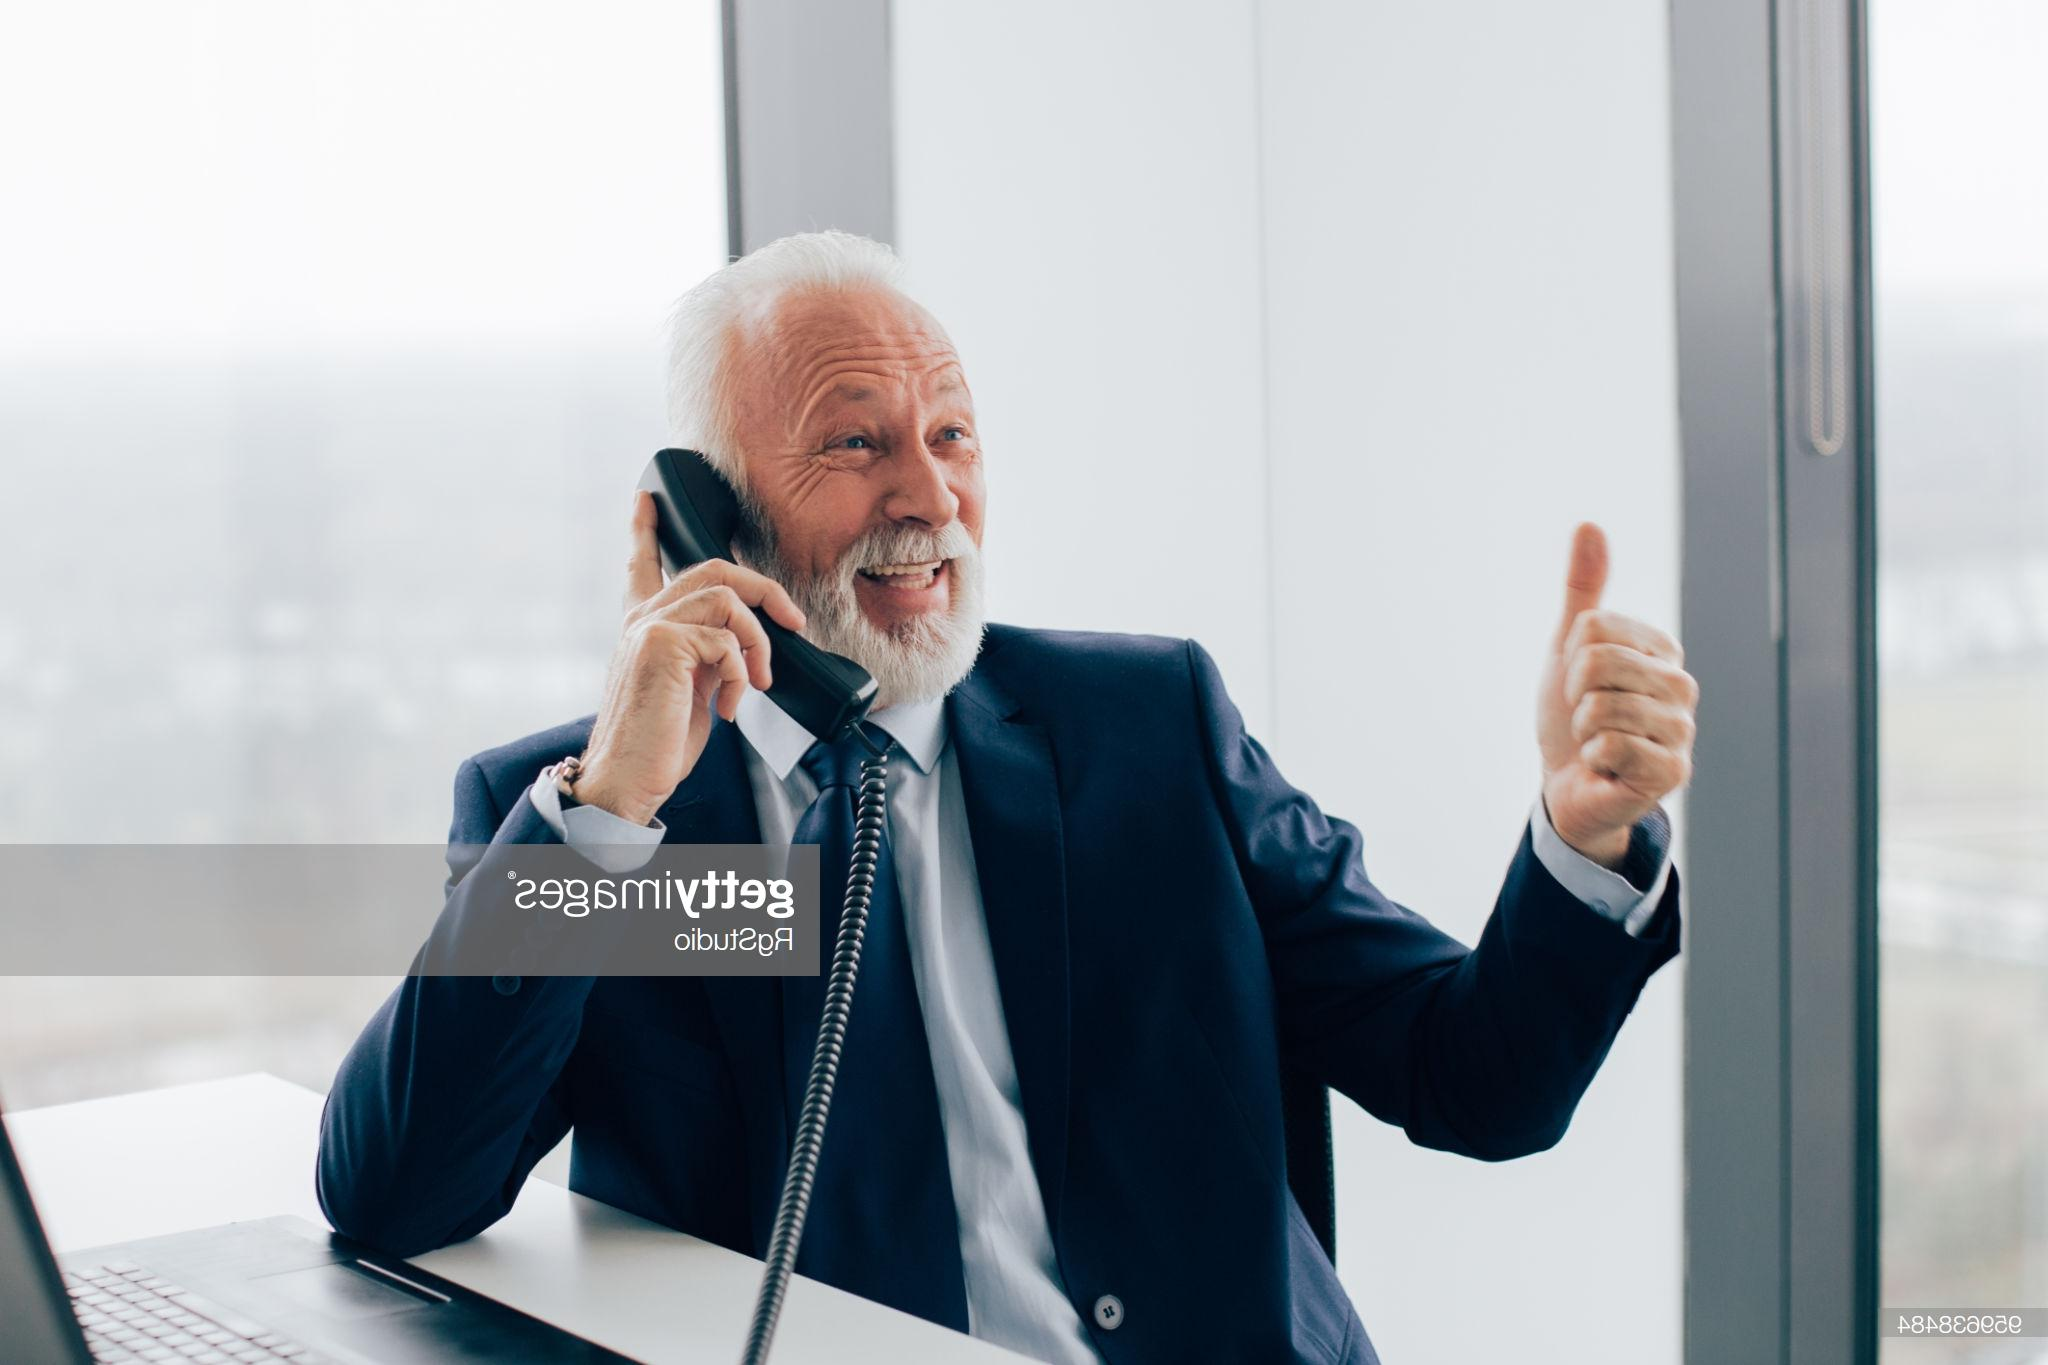thumbsup: (1562, 523, 1701, 778)
